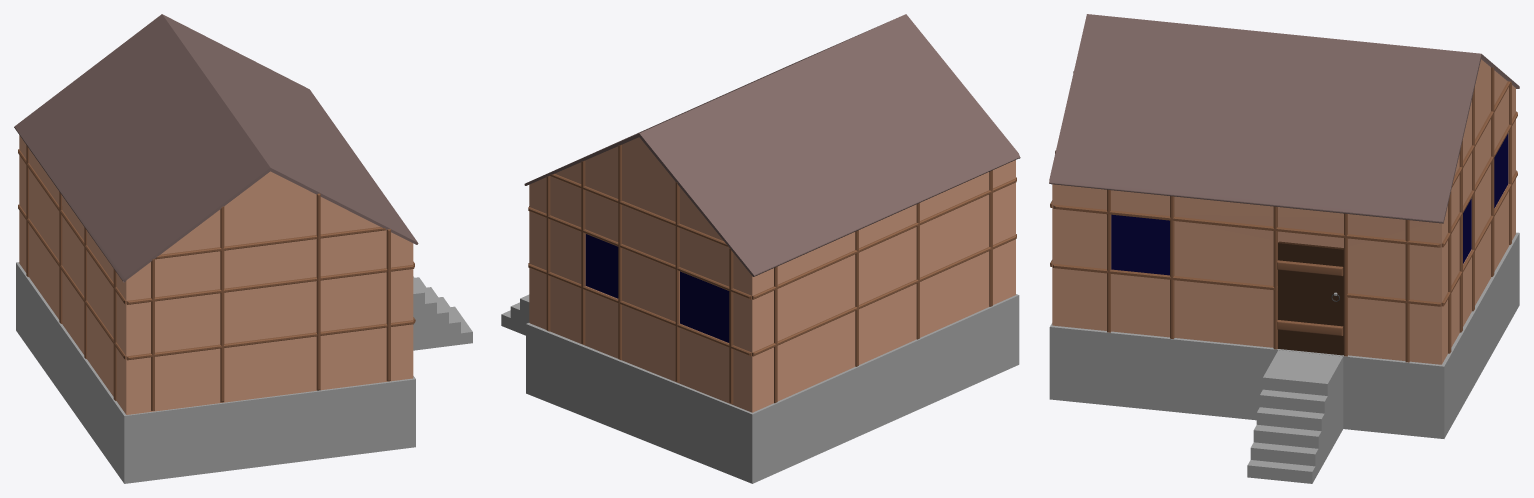
Rendered from VillagerHouseSmallWithStairs.fbx.
The picture shows the model from 3 angles, left to right: view 1: azimuth 30°, elevation 25°; view 2: azimuth 150°, elevation 25°; view 3: azimuth 270°, elevation 25°; orthographic projection. The views are drawn at different scales.
Visible parts, largest first — view 1: House3_House2_polySurface12, pCube2, HorizontalWoodPanel3, HorizontalWoodPanel4, HorizontalWoodPanel2, VerticalWoodPanel8, VerticalWoodPanel9, pCube5, VerticalWoodPanel7, pCube6, HorizontalWoodPanel6, HorizontalWoodPanel5 (+3 smaller); view 2: House3_House2_polySurface12, pCube2, Window2, Window3, HorizontalWoodPanel5, HorizontalWoodPanel6, HorizontalWoodPanel8, HorizontalWoodPanel7, VerticalWoodPanel5, VerticalWoodPanel16, HorizontalWoodPanel1, VerticalWoodPanel6 (+2 smaller); view 3: House3_House2_polySurface12, pCube2, Door2, Window1, pCube1, HorizontalWoodPanel14, pCube5, pCube6, pCube7, pCube8, pCube9, HorizontalWoodPanel11 (+12 smaller).
Part boxes in pixels (bbox=[...]): House3_House2_polySurface12: bbox=[14, 14, 418, 414]; pCube2: bbox=[16, 262, 415, 483]; HorizontalWoodPanel3: bbox=[126, 264, 414, 304]; HorizontalWoodPanel4: bbox=[126, 320, 414, 360]; HorizontalWoodPanel2: bbox=[155, 227, 385, 259]; VerticalWoodPanel8: bbox=[316, 193, 320, 390]; VerticalWoodPanel9: bbox=[220, 206, 224, 402]; pCube5: bbox=[413, 306, 472, 350]; VerticalWoodPanel7: bbox=[386, 229, 390, 381]; pCube6: bbox=[413, 297, 460, 339]; HorizontalWoodPanel6: bbox=[18, 149, 126, 304]; HorizontalWoodPanel5: bbox=[18, 204, 126, 359]; House3_House2_polySurface12: bbox=[524, 14, 1020, 412]; pCube2: bbox=[526, 294, 1019, 483]; Window2: bbox=[680, 271, 729, 342]; Window3: bbox=[585, 234, 618, 298]; HorizontalWoodPanel5: bbox=[752, 235, 1016, 356]; HorizontalWoodPanel6: bbox=[752, 178, 1016, 299]; HorizontalWoodPanel8: bbox=[528, 207, 751, 299]; HorizontalWoodPanel7: bbox=[528, 263, 751, 356]; VerticalWoodPanel5: bbox=[675, 182, 679, 382]; VerticalWoodPanel16: bbox=[581, 160, 585, 344]; HorizontalWoodPanel1: bbox=[550, 173, 728, 247]; VerticalWoodPanel6: bbox=[618, 144, 621, 359]; House3_House2_polySurface12: bbox=[1049, 14, 1519, 364]; pCube2: bbox=[1049, 232, 1519, 438]; Door2: bbox=[1277, 241, 1343, 355]; Window1: bbox=[1111, 214, 1169, 275]; pCube1: bbox=[1263, 350, 1343, 395]; HorizontalWoodPanel14: bbox=[1053, 204, 1440, 247]; pCube5: bbox=[1247, 417, 1343, 483]; pCube6: bbox=[1250, 405, 1343, 466]; pCube7: bbox=[1253, 393, 1343, 448]; pCube8: bbox=[1256, 381, 1343, 431]; pCube9: bbox=[1260, 369, 1343, 413]; HorizontalWoodPanel11: bbox=[1053, 263, 1277, 290].
Bounding box in the file's own units: 9.71 × 6.59 × 8.82.
